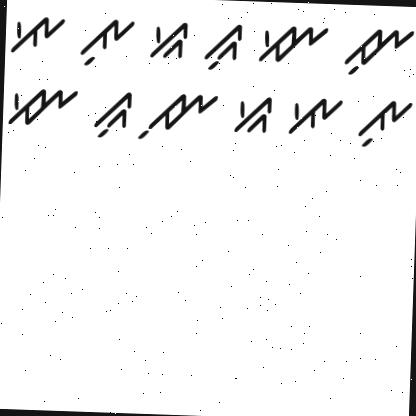e: (10, 8, 68, 66), (284, 92, 344, 142)
ngge: (226, 90, 278, 142), (148, 18, 191, 65)
nggu: (197, 20, 250, 76), (87, 87, 136, 142)
nje: (256, 16, 332, 72), (6, 79, 80, 134)
nju: (137, 91, 221, 145), (342, 18, 416, 79)
u: (75, 9, 138, 72), (354, 94, 414, 152)
